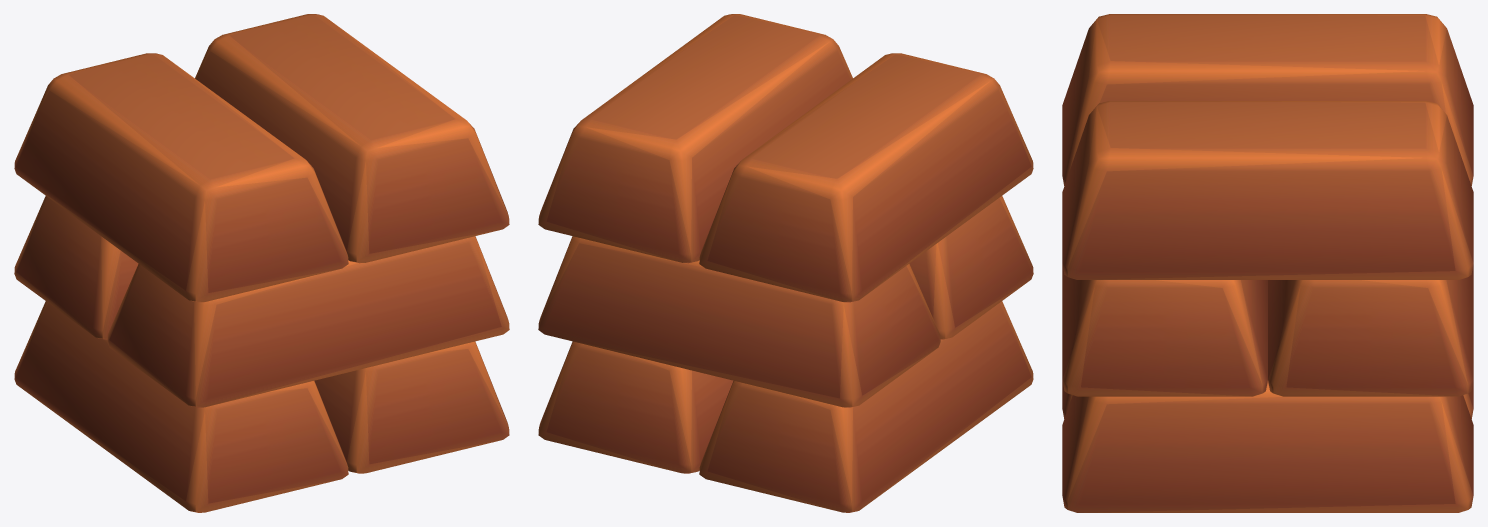
Rendered from copper_bars_stack_small.glb.
The picture shows the model from 3 angles, left to right: view 1: azimuth 30°, elevation 25°; view 2: azimuth 150°, elevation 25°; view 3: azimuth 270°, elevation 25°; orthographic projection. The views are drawn at different scales.
Visible parts, largest first — view 1: Copper_Bars_Stack_Small; view 2: Copper_Bars_Stack_Small; view 3: Copper_Bars_Stack_Small.
Part boxes in pixels (x1,y1,x2,y2): Copper_Bars_Stack_Small: (14,14,509,512); Copper_Bars_Stack_Small: (538,14,1033,512); Copper_Bars_Stack_Small: (1062,14,1473,512).
Bounding box in the file's own units: 0.8 × 0.75 × 0.8.
1 material, 1 textured.
